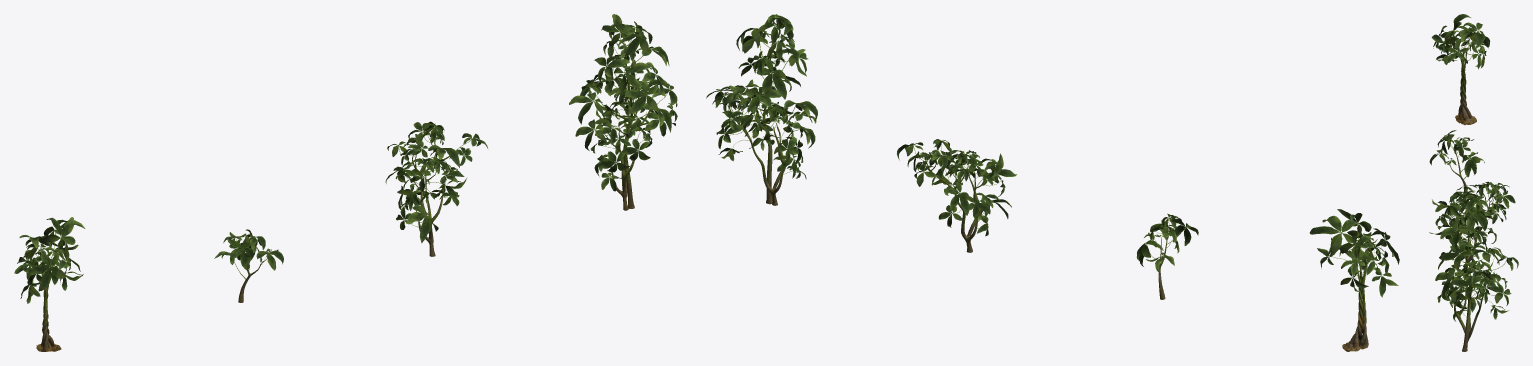
File: pachira_aquatica_01.glb
3 views of the same model, side by side, from view 1: azimuth 30°, elevation 25°; view 2: azimuth 150°, elevation 25°; view 3: azimuth 270°, elevation 25° (orthographic). The views are drawn at different scales.
Parts seen in each view (by area): view 1: pachira_aquatica_01_leaves_a, pachira_aquatica_01_bark_a; view 2: pachira_aquatica_01_leaves_a, pachira_aquatica_01_bark_a; view 3: pachira_aquatica_01_leaves_a, pachira_aquatica_01_bark_a.
Part boxes in pixels (<box>): pachira_aquatica_01_leaves_a: <box>14,14,677,303</box>; pachira_aquatica_01_bark_a: <box>36,44,652,351</box>; pachira_aquatica_01_leaves_a: <box>706,14,1399,297</box>; pachira_aquatica_01_bark_a: <box>728,43,1368,351</box>; pachira_aquatica_01_leaves_a: <box>1429,14,1518,321</box>; pachira_aquatica_01_bark_a: <box>1447,50,1497,351</box>.
Size of the model in its own units: 6.87 by 1.9 by 0.997.
2 materials, 2 textured.
